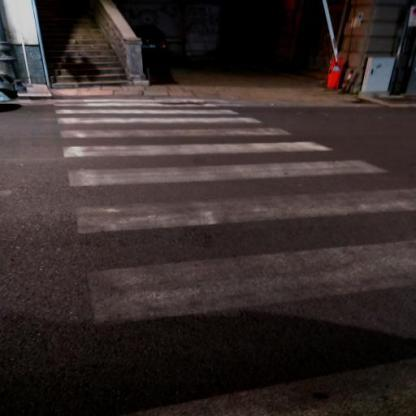crosswalk: (67, 184, 416, 330), (56, 124, 344, 162)
